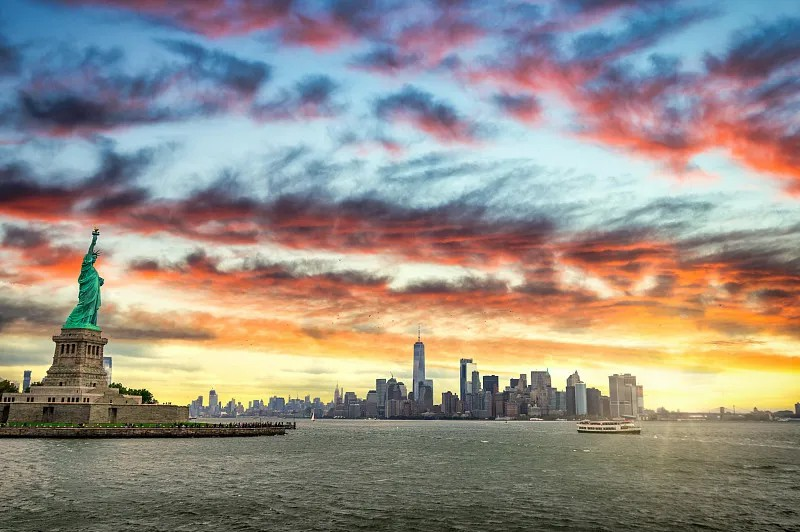SL: (42, 226, 107, 387)
